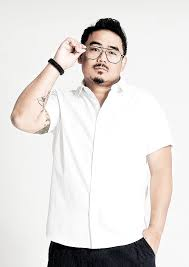C_shirt: (36, 76, 174, 249)
